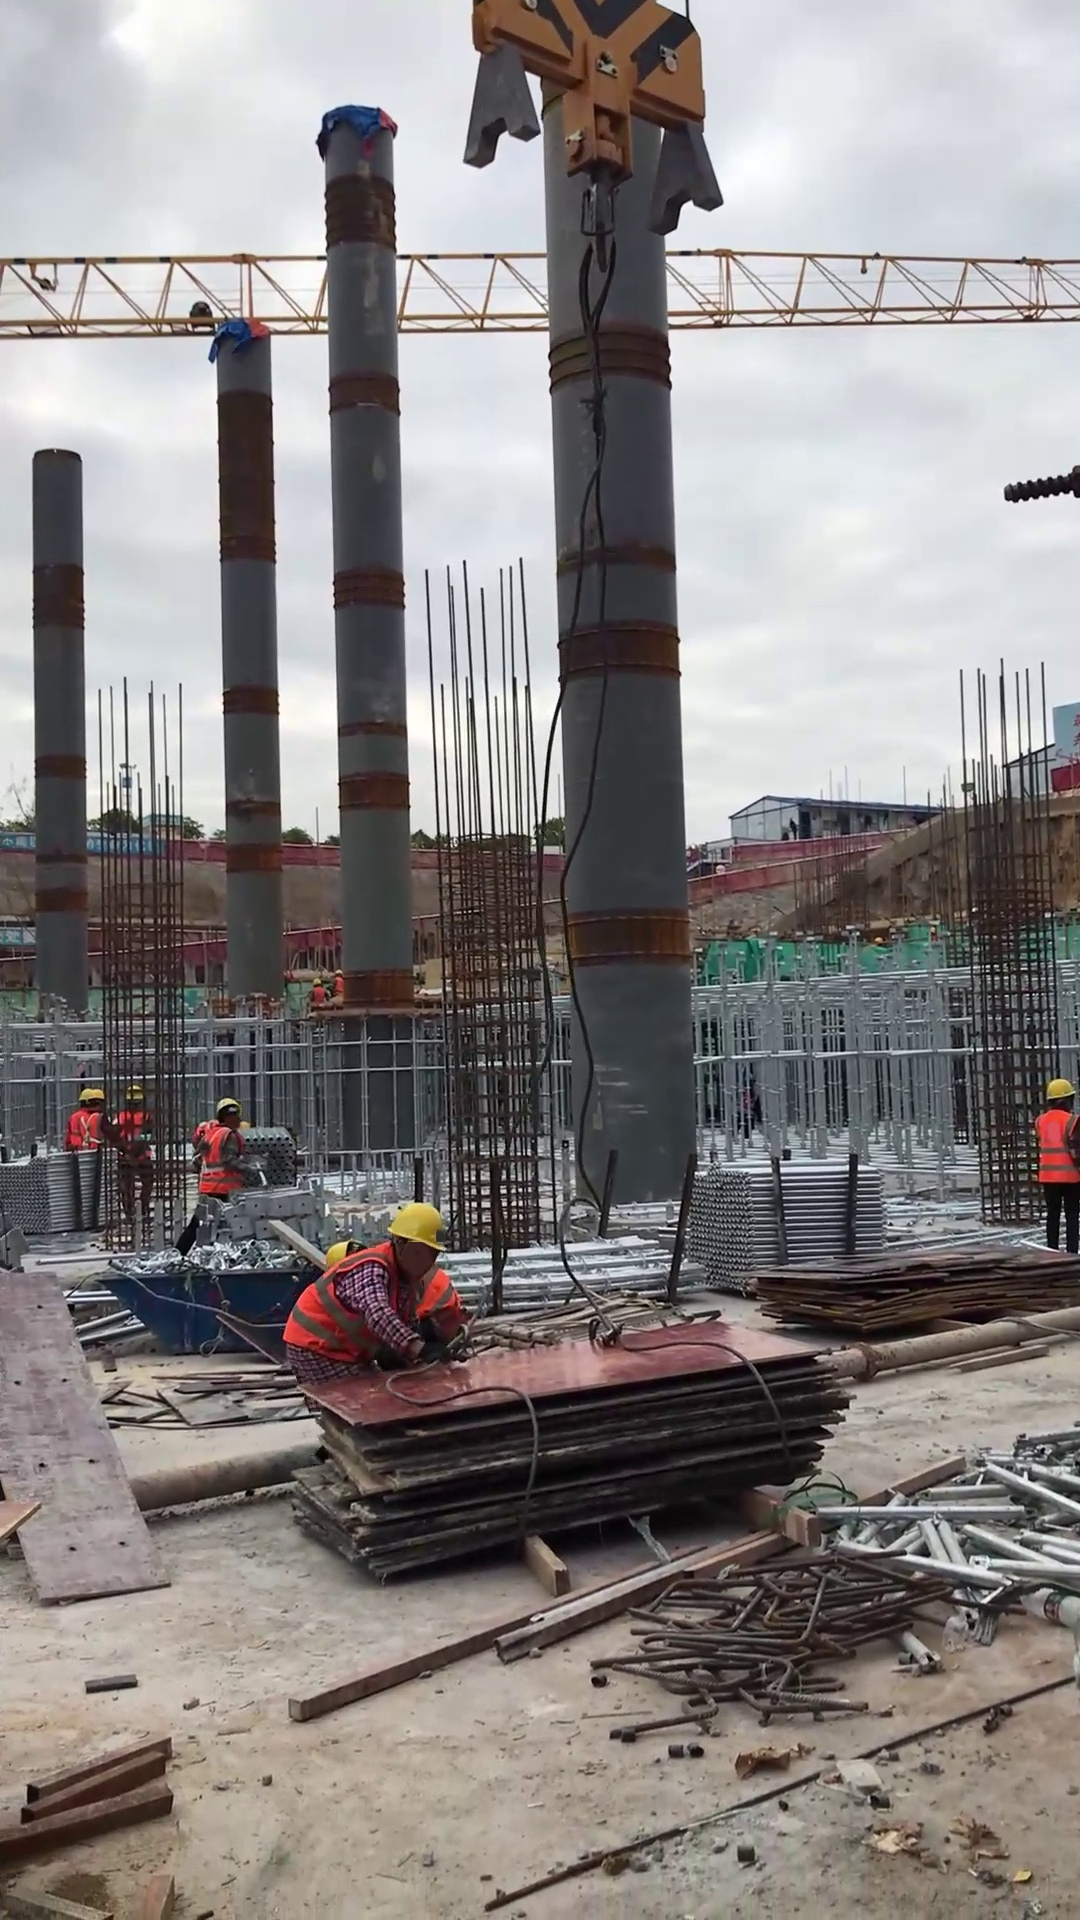board: (290, 1321, 846, 1581), (755, 1251, 1080, 1330)
helmet: (381, 1201, 448, 1254), (323, 1237, 353, 1273), (1040, 1076, 1077, 1102), (214, 1095, 242, 1116), (123, 1083, 146, 1103), (85, 1087, 104, 1102), (76, 1087, 88, 1102), (312, 977, 322, 988), (335, 967, 343, 977)
hook: (458, 1, 727, 277)
hopper: (94, 1264, 324, 1357)
person: (279, 1198, 457, 1387), (173, 1094, 264, 1257), (1030, 1076, 1080, 1254), (115, 1083, 161, 1225), (81, 1087, 127, 1157), (65, 1086, 92, 1151), (306, 977, 330, 1008), (327, 968, 343, 996)
scaffold: (675, 1152, 890, 1292), (446, 1236, 714, 1310), (1, 1149, 117, 1235), (241, 1123, 304, 1191)
slogan: (1, 835, 171, 860), (1, 927, 39, 949)
vest: (277, 1240, 395, 1364), (198, 1123, 245, 1197), (1035, 1106, 1080, 1183), (417, 1261, 459, 1320), (118, 1110, 154, 1165), (76, 1109, 106, 1149), (66, 1107, 86, 1148), (311, 986, 326, 1008), (333, 976, 345, 998)
